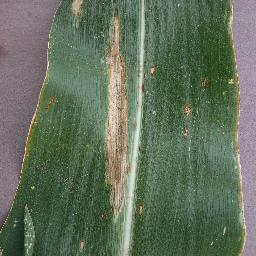Corn_Blight: (100, 6, 135, 226), (11, 38, 55, 195), (174, 63, 216, 145), (228, 0, 241, 145), (140, 50, 162, 107), (237, 149, 248, 254), (50, 0, 91, 28), (0, 213, 23, 256), (209, 224, 231, 251), (130, 198, 147, 226), (69, 235, 90, 256)
